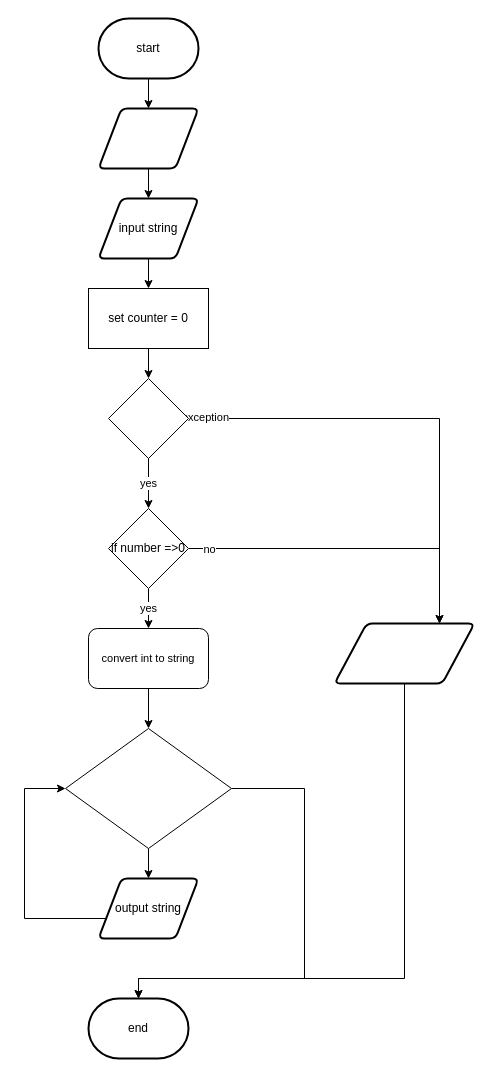
This 493x1076 diagram has some shape labels left out. The shapes that lost their labels are listed below. From the top down, each one's centre as x and y in pixels, then its label:
At point (148, 138): "input number".
At point (148, 418): "try".
At point (404, 653): "not a valid input".
At point (148, 788): "for counter=1 counter<number counter ++".
